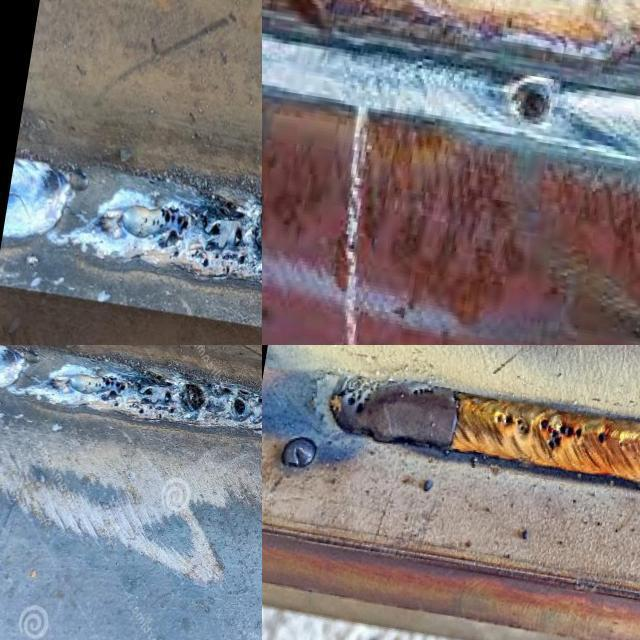defect: (82, 367, 177, 421), (505, 70, 557, 136), (136, 204, 193, 260), (220, 379, 262, 433), (538, 418, 589, 460), (345, 382, 378, 416), (179, 381, 209, 415), (494, 410, 532, 436), (218, 192, 249, 223), (404, 381, 436, 402), (198, 211, 221, 239), (253, 209, 262, 258), (593, 429, 609, 446), (235, 226, 244, 249), (190, 247, 201, 260), (224, 264, 232, 278), (201, 257, 210, 269), (238, 254, 246, 266), (214, 250, 221, 263)
